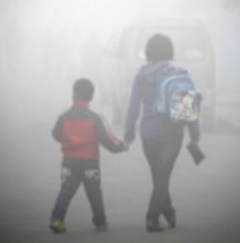person: (122, 30, 215, 236), (45, 75, 128, 236)
